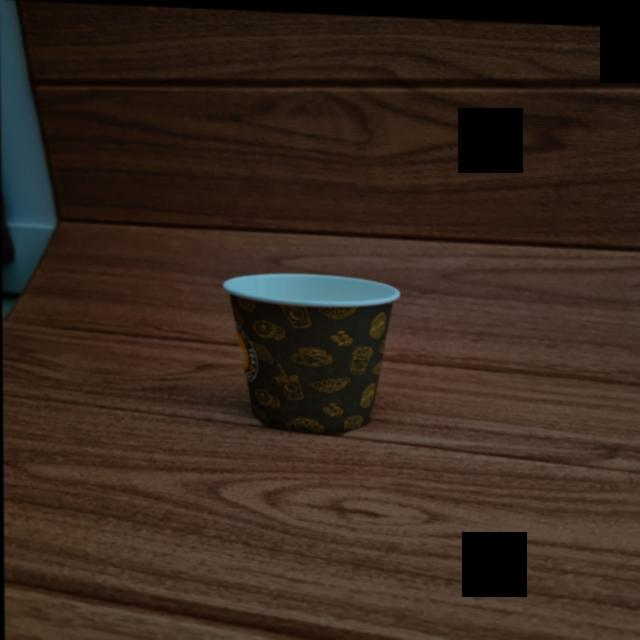cups: (215, 268, 408, 434)
